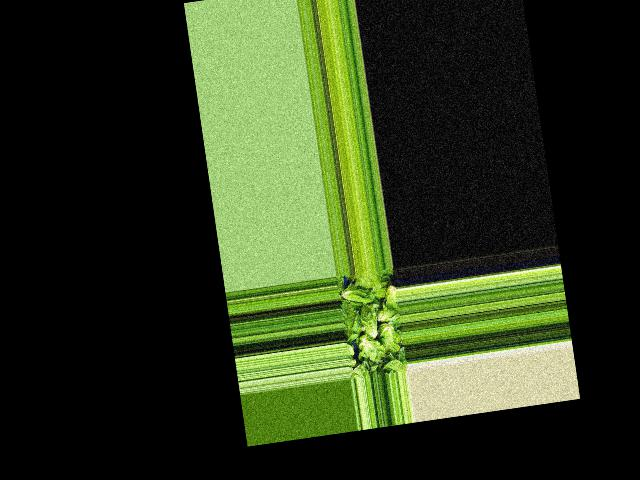lettuce: (381, 280, 399, 316)
